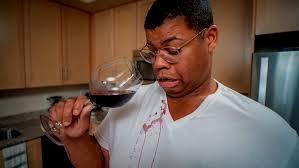wine: (134, 118, 154, 136), (131, 139, 143, 167), (152, 138, 161, 166), (149, 102, 165, 117), (156, 116, 164, 135)
